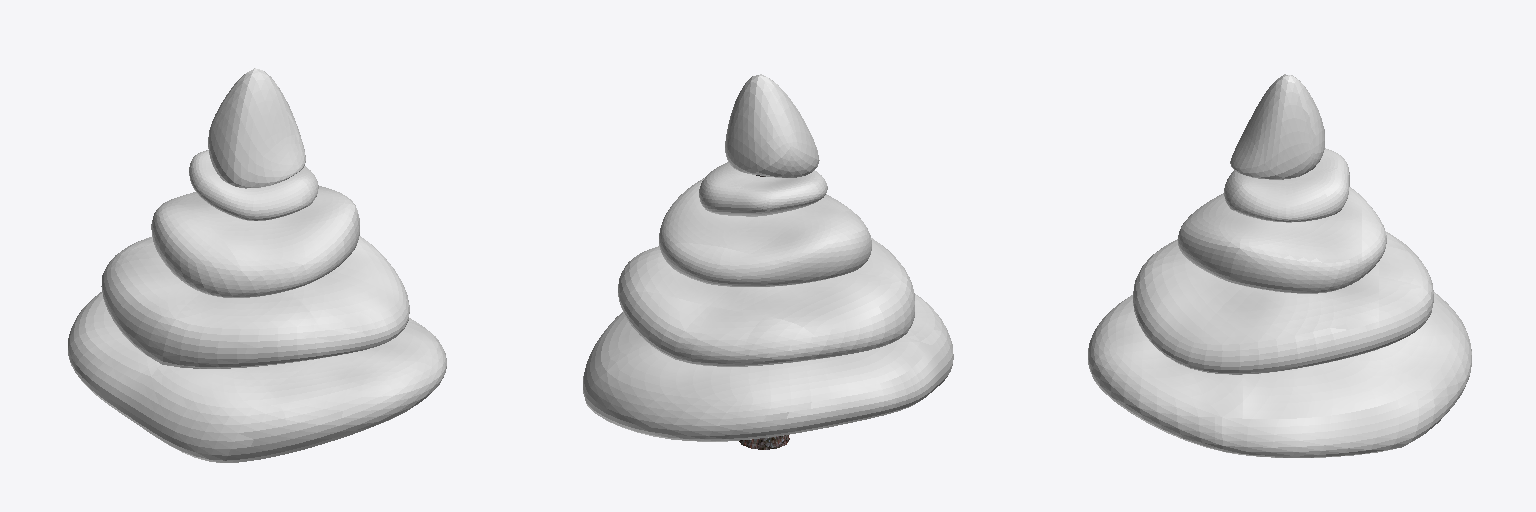
The picture shows the model from 3 angles: view 1: azimuth 30°, elevation 25°; view 2: azimuth 150°, elevation 25°; view 3: azimuth 270°, elevation 25°; orthographic projection.
Parts seen in each view (by area): view 1: arbol_3_front1; view 2: arbol_3_front1; view 3: arbol_3_front1.
Boxes of the visible parts, x1=… form: arbol_3_front1: x1=68, y1=68, x2=446, y2=462; arbol_3_front1: x1=583, y1=74, x2=953, y2=449; arbol_3_front1: x1=1088, y1=74, x2=1471, y2=457.
Bounding box in the file's own units: 4.05 × 4.42 × 4.21.
Materials: 1 (1 with a texture image).